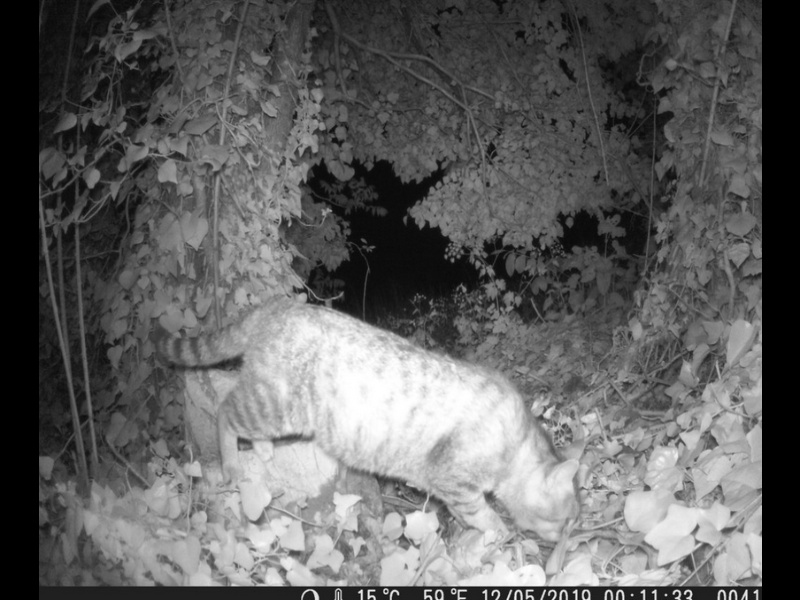cat: (150, 298, 586, 560)
